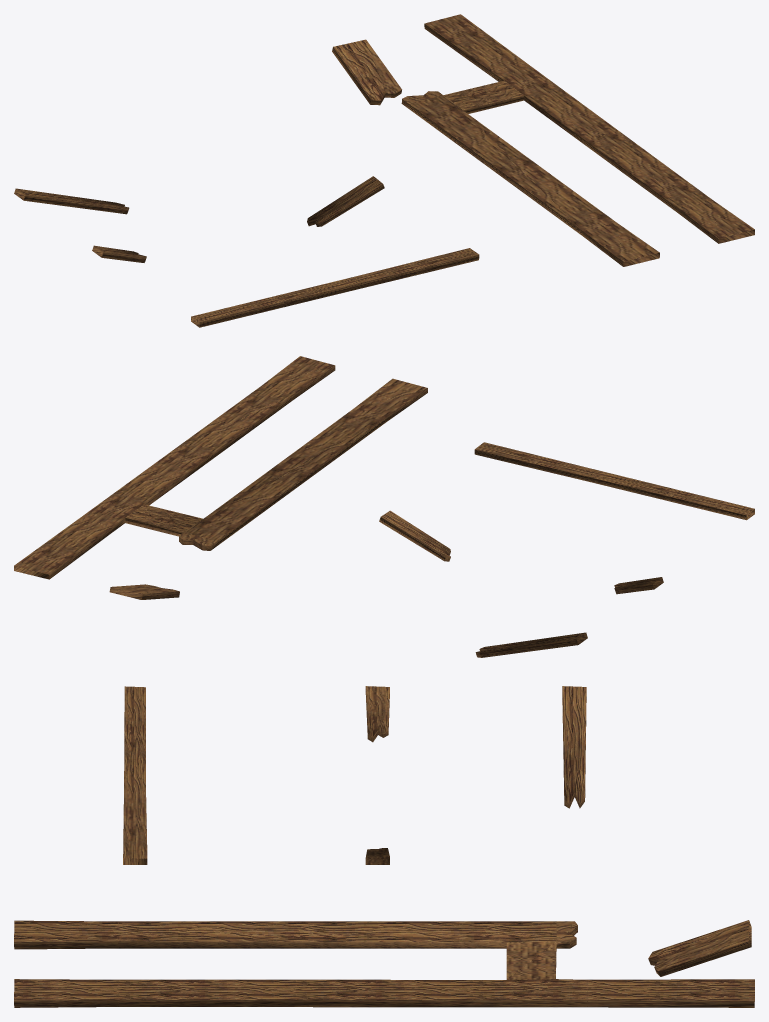
The model's file is LAKETOWN_WAREHOUSE3_PS_WH3_RAFTERS74746.fbx.
3 views of the same model, one above another, from view 1: azimuth 30°, elevation 25°; view 2: azimuth 150°, elevation 25°; view 3: azimuth 270°, elevation 25° (orthographic). The views are drawn at different scales.
Parts seen in each view (by area): view 1: LAKETOWN_WAREHOUSE3_PS_WH3_RAFTERS74746; view 2: LAKETOWN_WAREHOUSE3_PS_WH3_RAFTERS74746; view 3: LAKETOWN_WAREHOUSE3_PS_WH3_RAFTERS74746.
Part boxes in pixels (x1,y1,x2,y2): LAKETOWN_WAREHOUSE3_PS_WH3_RAFTERS74746: (14, 14, 754, 327); LAKETOWN_WAREHOUSE3_PS_WH3_RAFTERS74746: (14, 356, 754, 657); LAKETOWN_WAREHOUSE3_PS_WH3_RAFTERS74746: (14, 686, 754, 1007).
Bounding box in the file's own units: 176066 × 15344 × 174735.
Materials: 1 (1 with a texture image).
